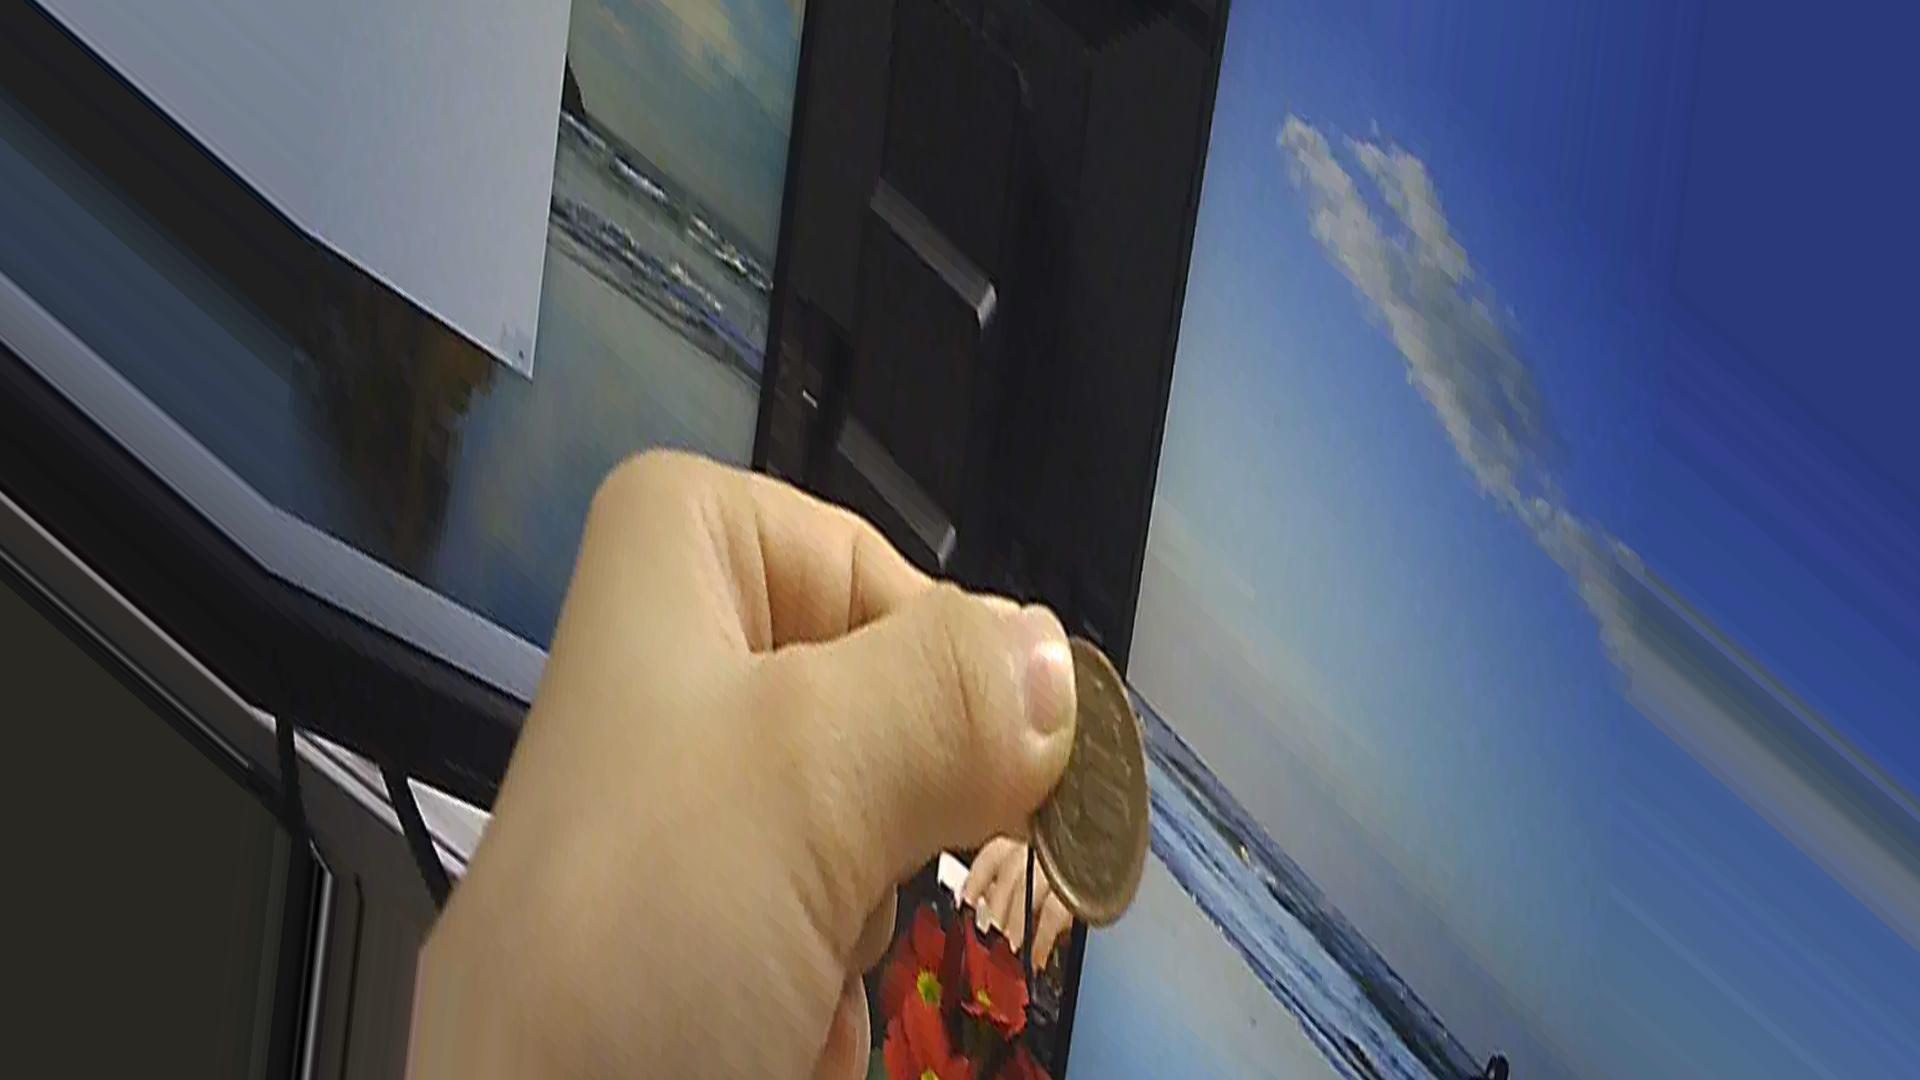10 Yen: (992, 620, 1167, 953)
